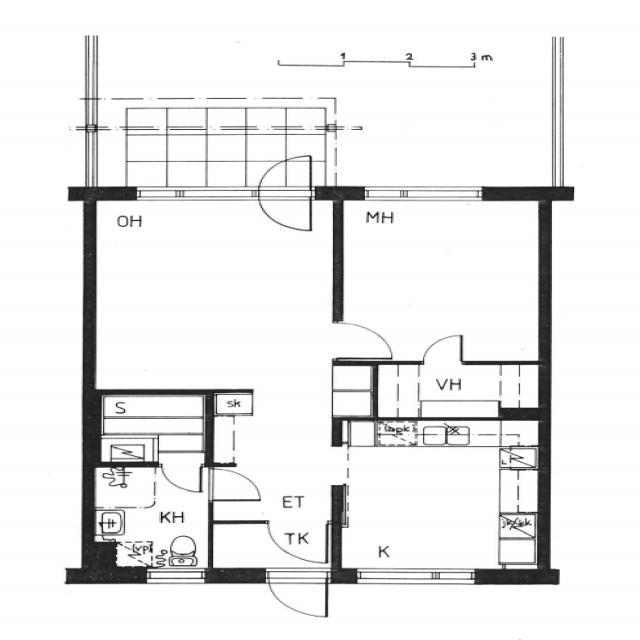door: (363, 354, 552, 418), (253, 153, 320, 234), (262, 570, 332, 620), (323, 317, 398, 361), (168, 462, 248, 501), (200, 465, 271, 505), (261, 520, 321, 562), (153, 457, 211, 497), (412, 331, 472, 366)
window: (354, 179, 496, 207), (121, 183, 258, 207), (346, 564, 484, 586), (140, 566, 213, 586)
zone: (84, 192, 342, 392), (334, 193, 546, 364), (338, 419, 545, 577), (89, 463, 213, 573), (367, 362, 549, 418), (90, 390, 212, 467)
